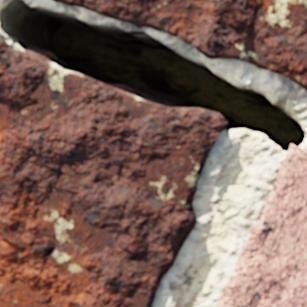brick: (0, 37, 226, 306), (53, 0, 306, 90), (218, 145, 306, 306)
crack: (2, 0, 305, 151)
